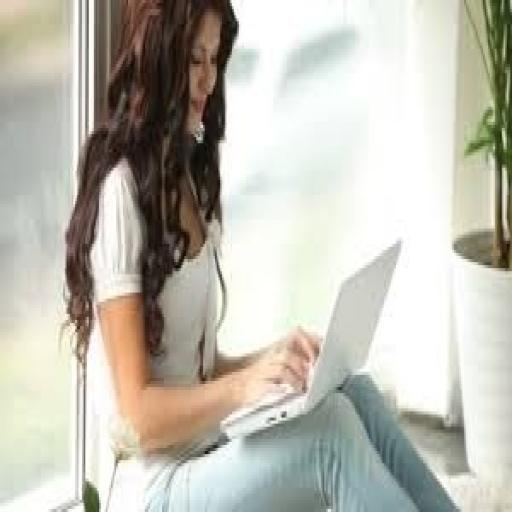using_laptop: (218, 232, 404, 438)
